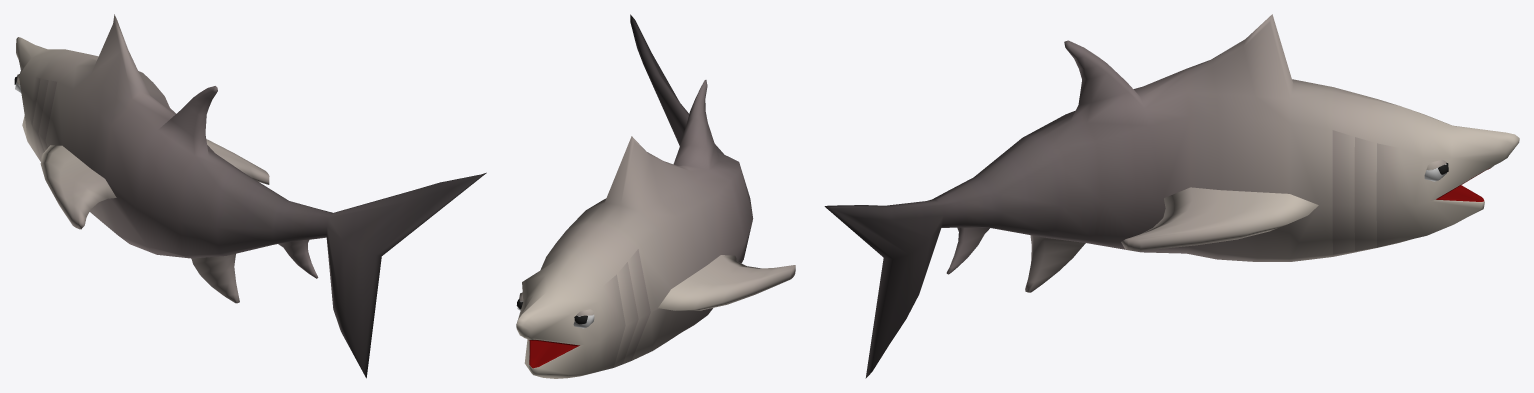
Rendered from Big_Shark_01.fbx.
3 renders of one model, left to right at view 1: azimuth 30°, elevation 25°; view 2: azimuth 150°, elevation 25°; view 3: azimuth 270°, elevation 25°, orthographic. The views are drawn at different scales.
Parts seen in each view (by area): view 1: Big_Shark_01; view 2: Big_Shark_01; view 3: Big_Shark_01.
Part boxes in pixels (x1,y1,x2,y2): Big_Shark_01: (14, 14, 486, 378); Big_Shark_01: (516, 14, 795, 378); Big_Shark_01: (824, 14, 1519, 378).
Size of the model in its own units: 410 by 363 by 724.
